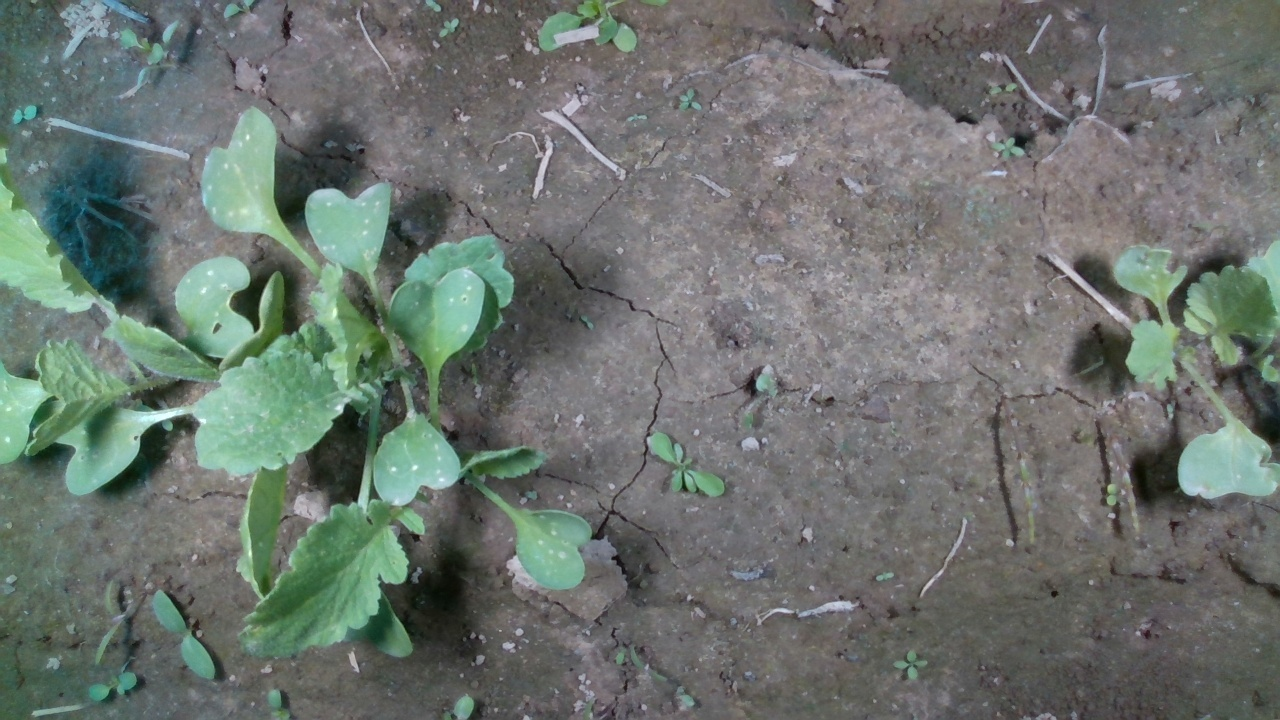weed: (152, 588, 216, 680), (648, 431, 725, 498), (87, 671, 138, 702), (893, 647, 928, 680), (990, 136, 1027, 160), (677, 87, 703, 111), (10, 104, 38, 126), (438, 17, 459, 38), (989, 82, 1018, 95), (1105, 483, 1119, 506), (579, 313, 594, 331), (875, 571, 895, 582)
